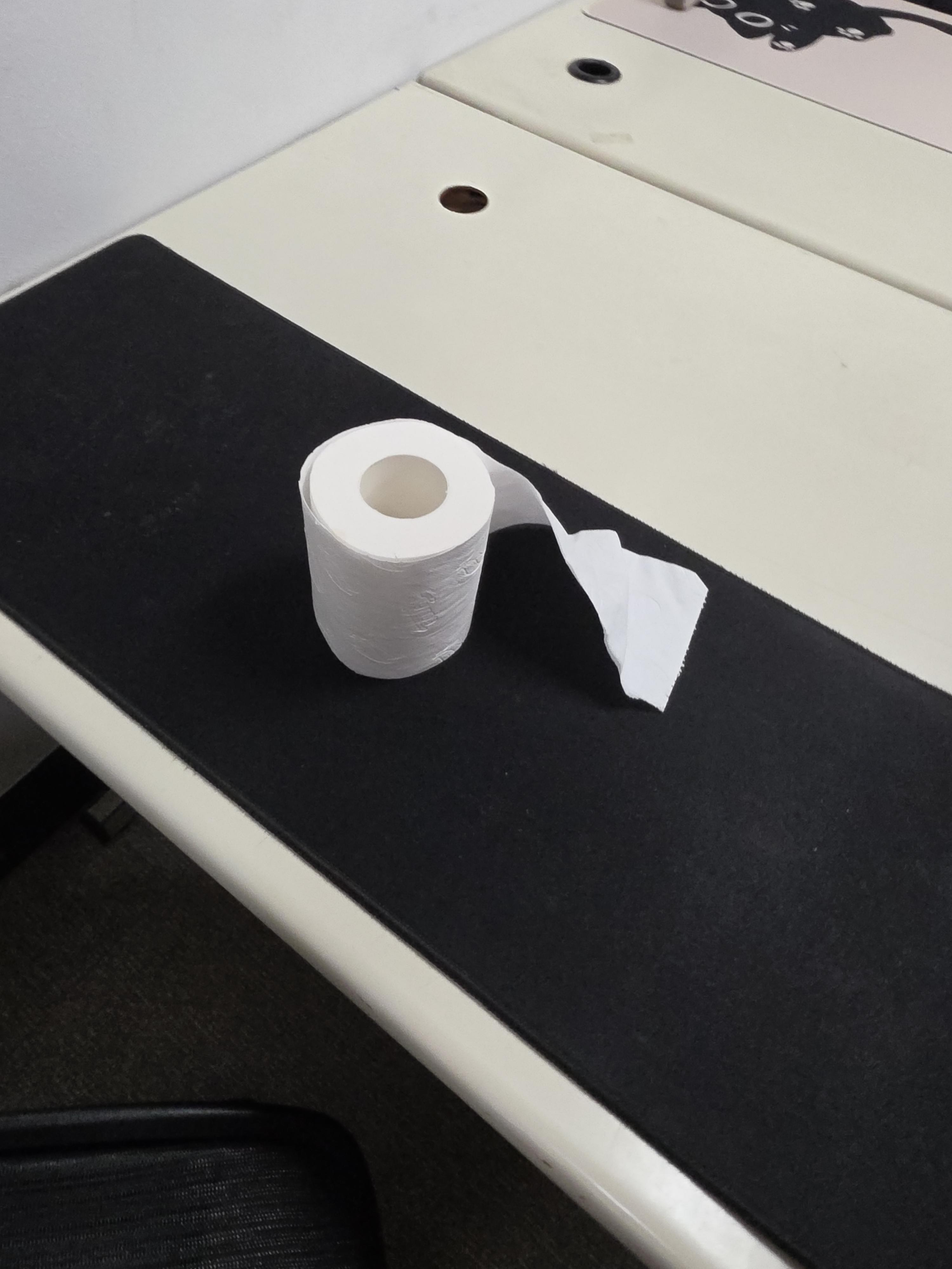tissue: (298, 418, 709, 713)
